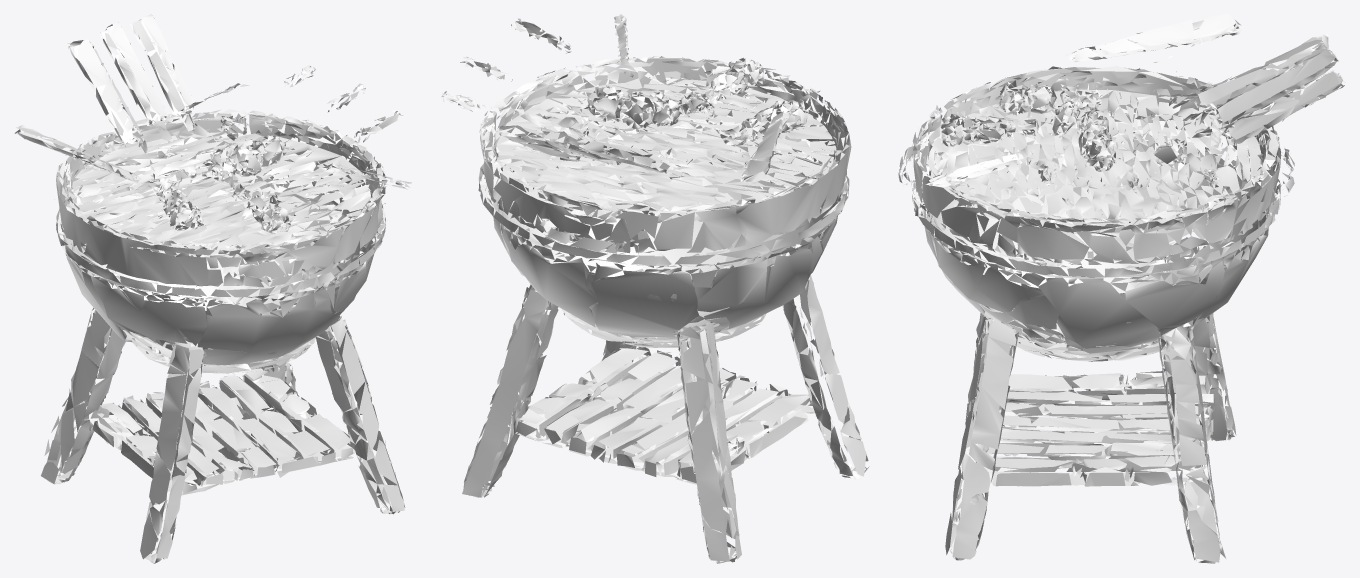
Rendered from beach-bbq-grill.glb.
3 renders of one model, left to right at view 1: azimuth 30°, elevation 25°; view 2: azimuth 150°, elevation 25°; view 3: azimuth 270°, elevation 25°, orthographic. The views are drawn at different scales.
Visible parts, largest first — view 1: model; view 2: model; view 3: model.
Part boxes in pixels (<box>): model: <box>14,14,411,563</box>; model: <box>441,14,869,563</box>; model: <box>898,14,1345,563</box>.
Bounding box in the file's own units: 1.58 × 1.91 × 1.75.
1 material, 1 textured.
